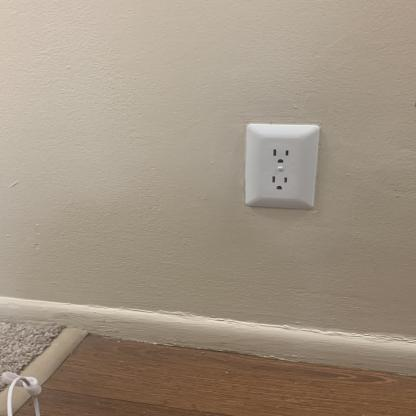OUTLET: (243, 120, 321, 210)
